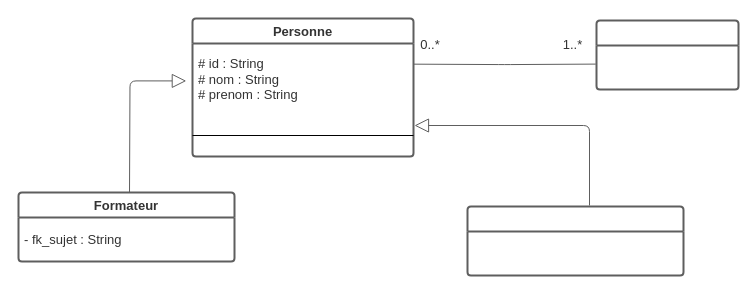
This 756x293 diagram has some shape labels left out. The centre of each missing label's shape, as x and y in pixels:
"Etudiant" goes at (575,240).
"Role" goes at (667,54).
